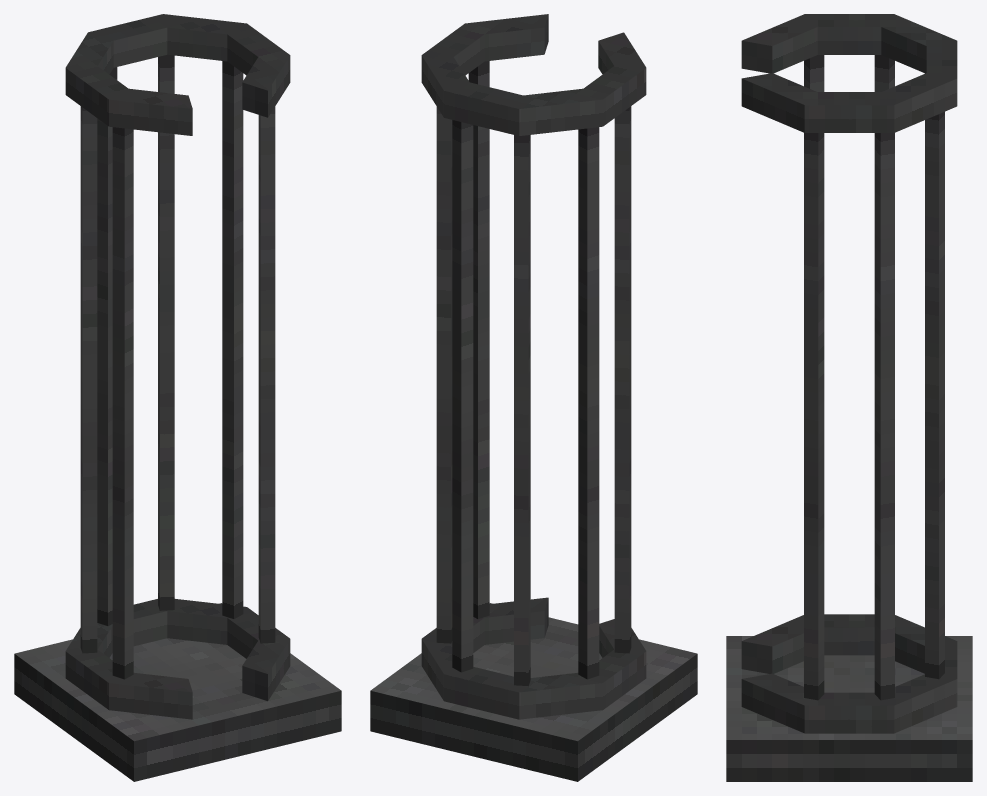
Rendered from small-missile-silo.obj.
3 renders of one model, left to right at view 1: azimuth 30°, elevation 25°; view 2: azimuth 150°, elevation 25°; view 3: azimuth 270°, elevation 25°, orthographic. The views are drawn at different scales.
Parts seen in each view (by area): view 1: Group_001, Component_1_002, Component_1_001, Component_2_005, Component_2_001, Component_2_002, Component_2_006, Component_2_003, Component_2_004; view 2: Group_001, Component_1_002, Component_1_001, Component_2_002, Component_2_003, Component_2_001, Component_2_004, Component_2_005, Component_2_006; view 3: Group_001, Component_1_002, Component_1_001, Component_2_006, Component_2_005, Component_2_003, Component_2_002, Component_2_001.
Boxes of the visible parts, left/top/right/bottom form: Group_001: left=14, top=603, right=341, bottom=781; Component_1_002: left=65, top=14, right=290, bottom=135; Component_1_001: left=65, top=599, right=290, bottom=719; Component_2_005: left=222, top=61, right=243, bottom=618; Component_2_001: left=112, top=127, right=133, bottom=679; Component_2_002: left=80, top=106, right=97, bottom=653; Component_2_006: left=258, top=107, right=275, bottom=643; Component_2_003: left=158, top=54, right=174, bottom=610; Component_2_004: left=97, top=67, right=117, bottom=625; Group_001: left=370, top=603, right=697, bottom=781; Component_1_002: left=421, top=14, right=646, bottom=135; Component_1_001: left=421, top=597, right=646, bottom=719; Component_2_002: left=578, top=127, right=599, bottom=679; Component_2_003: left=452, top=120, right=473, bottom=672; Component_2_001: left=614, top=106, right=631, bottom=653; Component_2_004: left=514, top=135, right=530, bottom=686; Component_2_005: left=436, top=107, right=452, bottom=643; Component_2_006: left=468, top=61, right=489, bottom=618; Group_001: left=726, top=636, right=972, bottom=781; Component_1_002: left=741, top=14, right=957, bottom=132; Component_1_001: left=741, top=614, right=957, bottom=733; Component_2_006: left=804, top=133, right=824, bottom=700; Component_2_005: left=874, top=133, right=894, bottom=700; Component_2_003: left=925, top=111, right=944, bottom=679; Component_2_002: left=874, top=55, right=894, bottom=91; Component_2_001: left=804, top=55, right=824, bottom=91.
Size of the model in its own units: 1 by 3 by 1.
